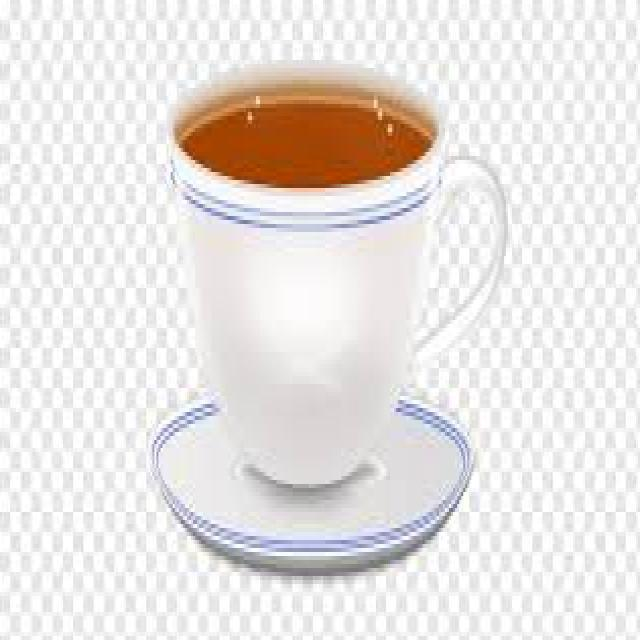taza: (134, 43, 514, 484)
